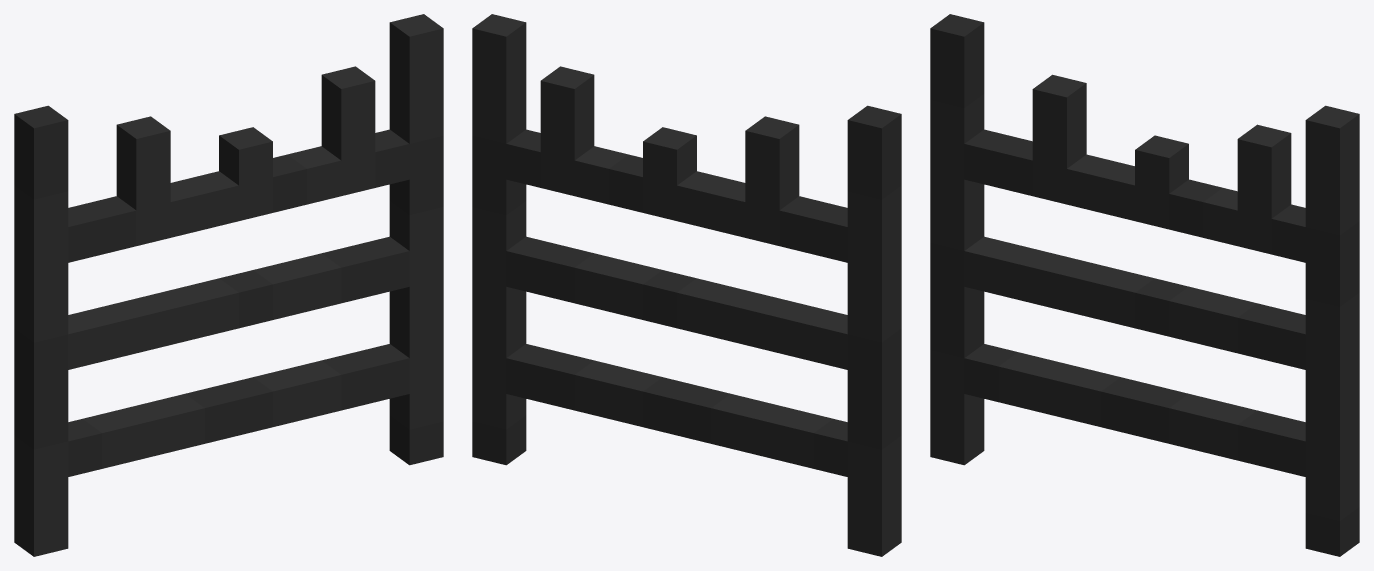
The model's file is ConstructionMaterials-85.obj.
3 renders of one model, left to right at view 1: azimuth 30°, elevation 25°; view 2: azimuth 150°, elevation 25°; view 3: azimuth 330°, elevation 25°, orthographic.
Bounding box in the file's own units: 1.2 × 1.2 × 0.1.
Materials: 1 (1 with a texture image).
